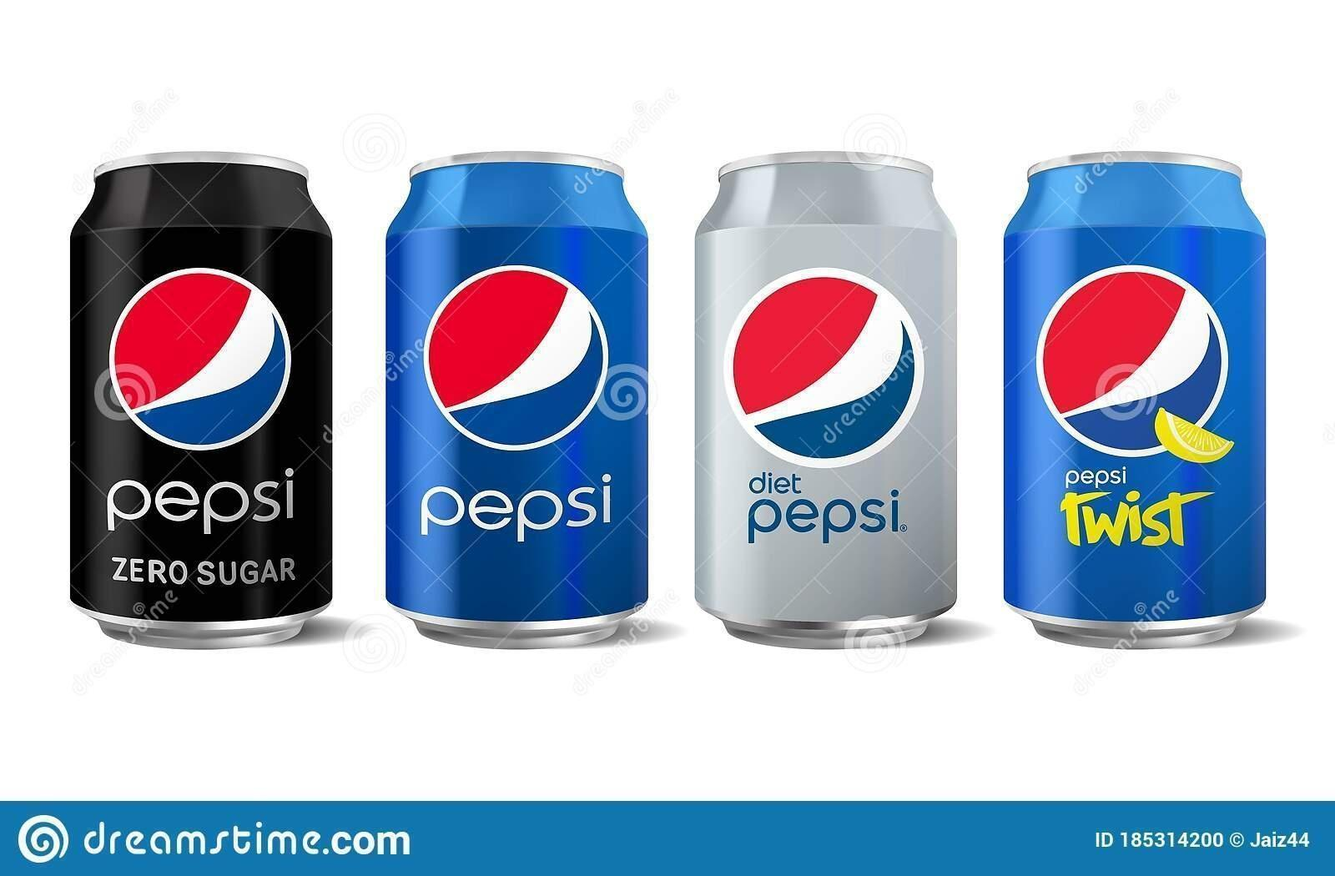tin can: (691, 110, 963, 652), (1000, 141, 1272, 652), (68, 143, 338, 650), (383, 143, 654, 648)
